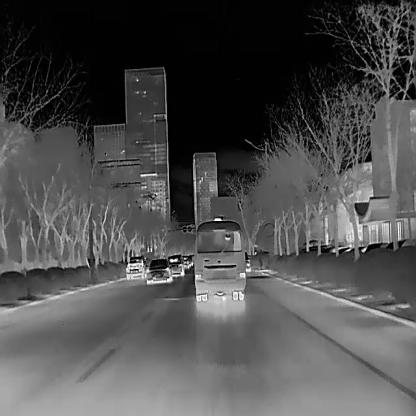bus: (192, 216, 246, 301)
car: (144, 258, 170, 282), (166, 254, 183, 275), (126, 256, 144, 275)
